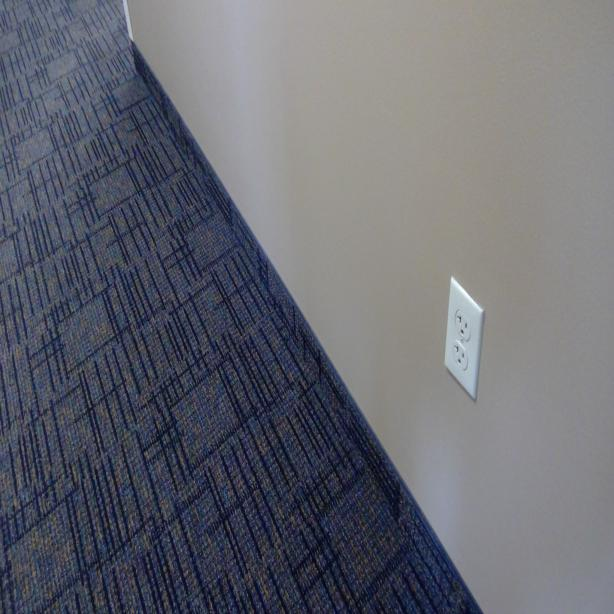typeb: (452, 340, 469, 375), (454, 307, 472, 340)
